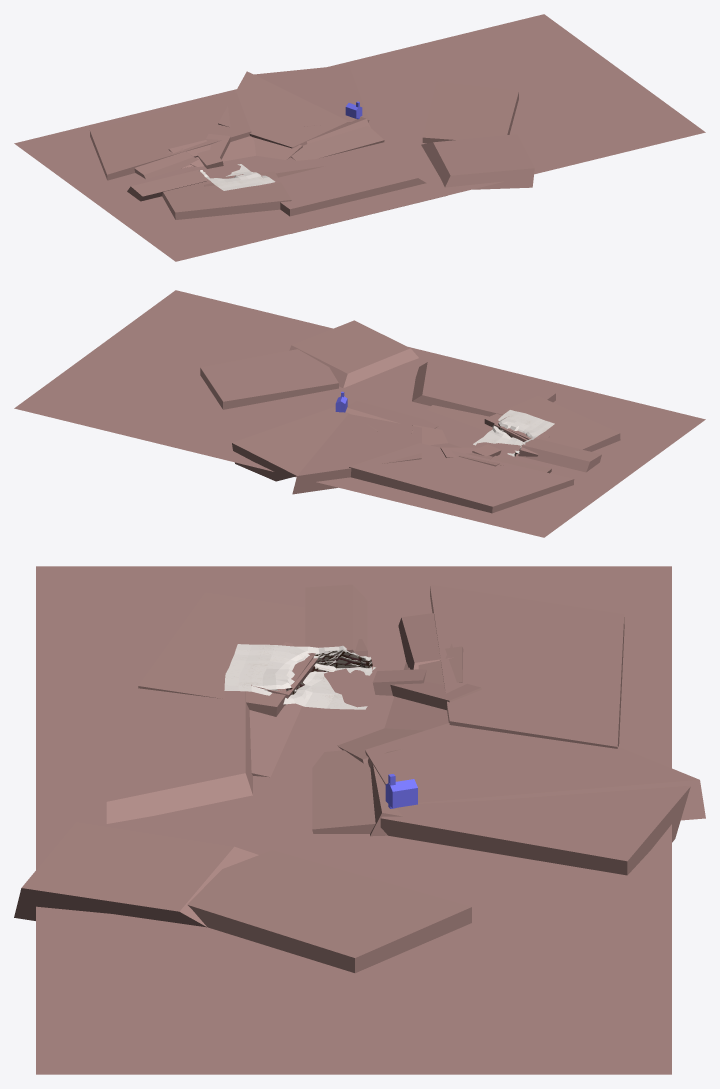
Rendered from BLOCKOUT.fbx.
3 renders of one model, top to bottom at view 1: azimuth 30°, elevation 25°; view 2: azimuth 150°, elevation 25°; view 3: azimuth 270°, elevation 25°, orthographic. The views are drawn at different scales.
Visible parts, largest first — view 1: Plane, CLIFF1; view 2: Plane, CLIFF1; view 3: Plane, CLIFF1, Cube.022.
Part boxes in pixels (left/top/right/bottom): Plane: left=14, top=14, right=705, bottom=261; CLIFF1: left=199, top=164, right=275, bottom=190; Plane: left=14, top=290, right=705, bottom=537; CLIFF1: left=473, top=410, right=554, bottom=456; Plane: left=14, top=566, right=705, bottom=1074; CLIFF1: left=224, top=644, right=375, bottom=709; Cube.022: left=385, top=774, right=417, bottom=808.
Bounding box in the file's own units: 146459 × 12370 × 84208.
